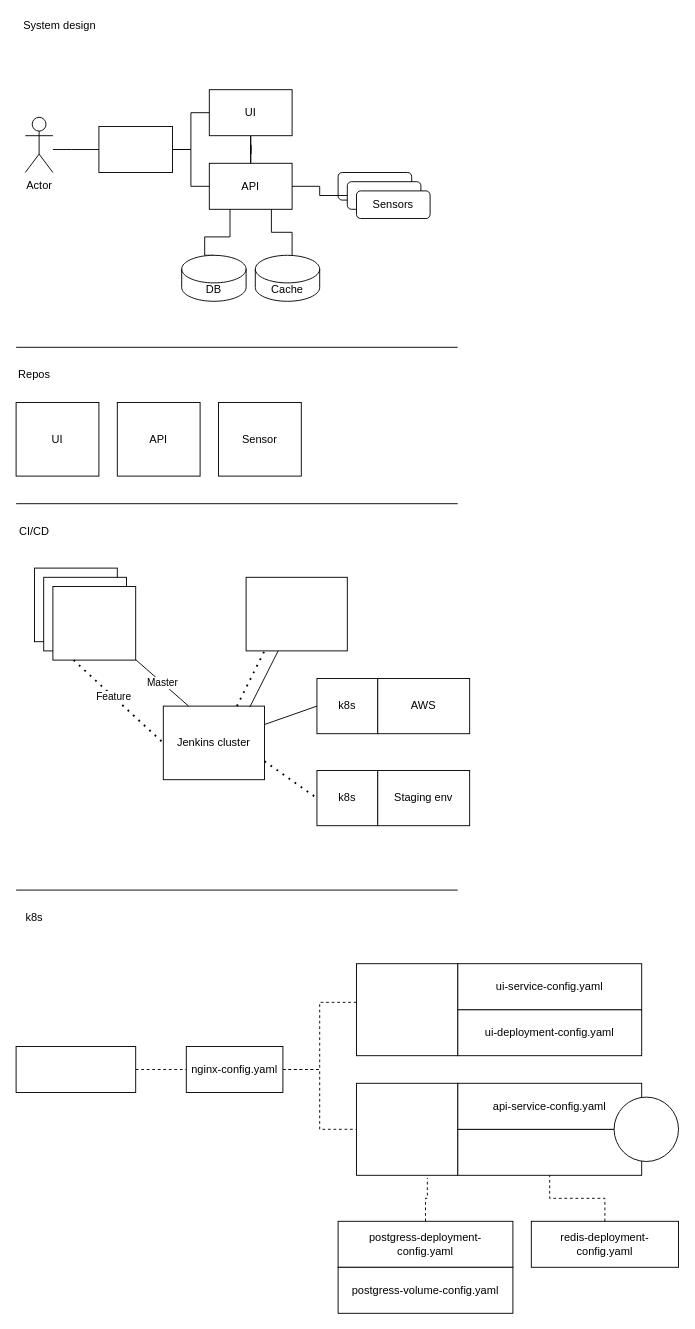
This 695x1329 diagram has some shape labels left out. Each missing label, with the centre of its shape:
"api-deployment-config.yaml" goes at (x=549, y=1151).
"api-ip-config.yaml" goes at (x=407, y=1128).
"Git Hub Repos" goes at (x=94, y=623).
"Image registry" goes at (x=296, y=613).
"ingress-config.yaml" goes at (x=75, y=1069).
"multi instances" goes at (x=645, y=1129).
"nginx" goes at (x=135, y=149).
"ui-ip-config.yaml" goes at (x=407, y=1009).
